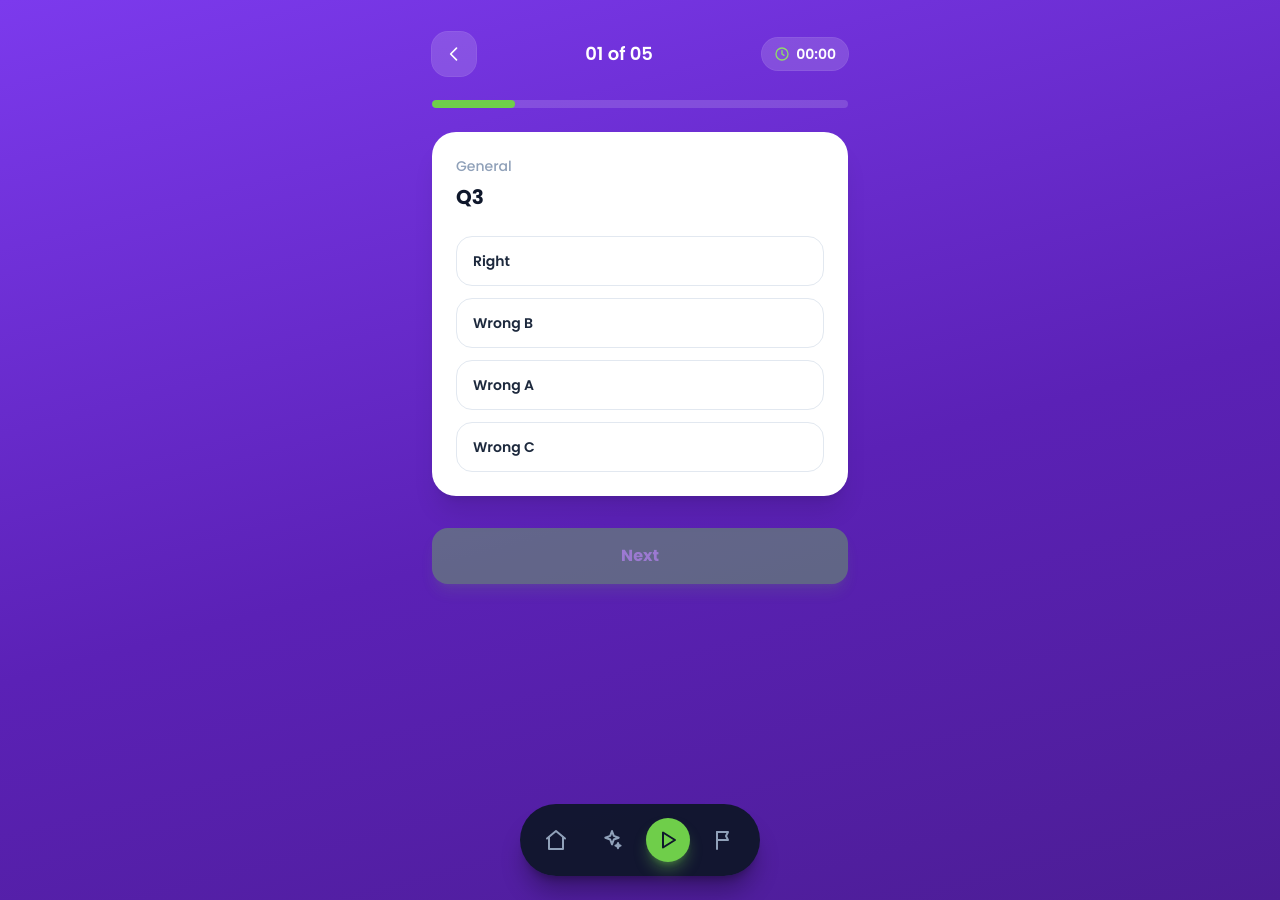
Test: Play page › reveals the correct answer and locks after choosing
Check: the button "Next" is disabled, box [432,528,848,584]
What coordinates should you click on to do the following:
click the button "Wrong A"
I would click on:
 (504, 384)
Its box is [456,360,824,410].
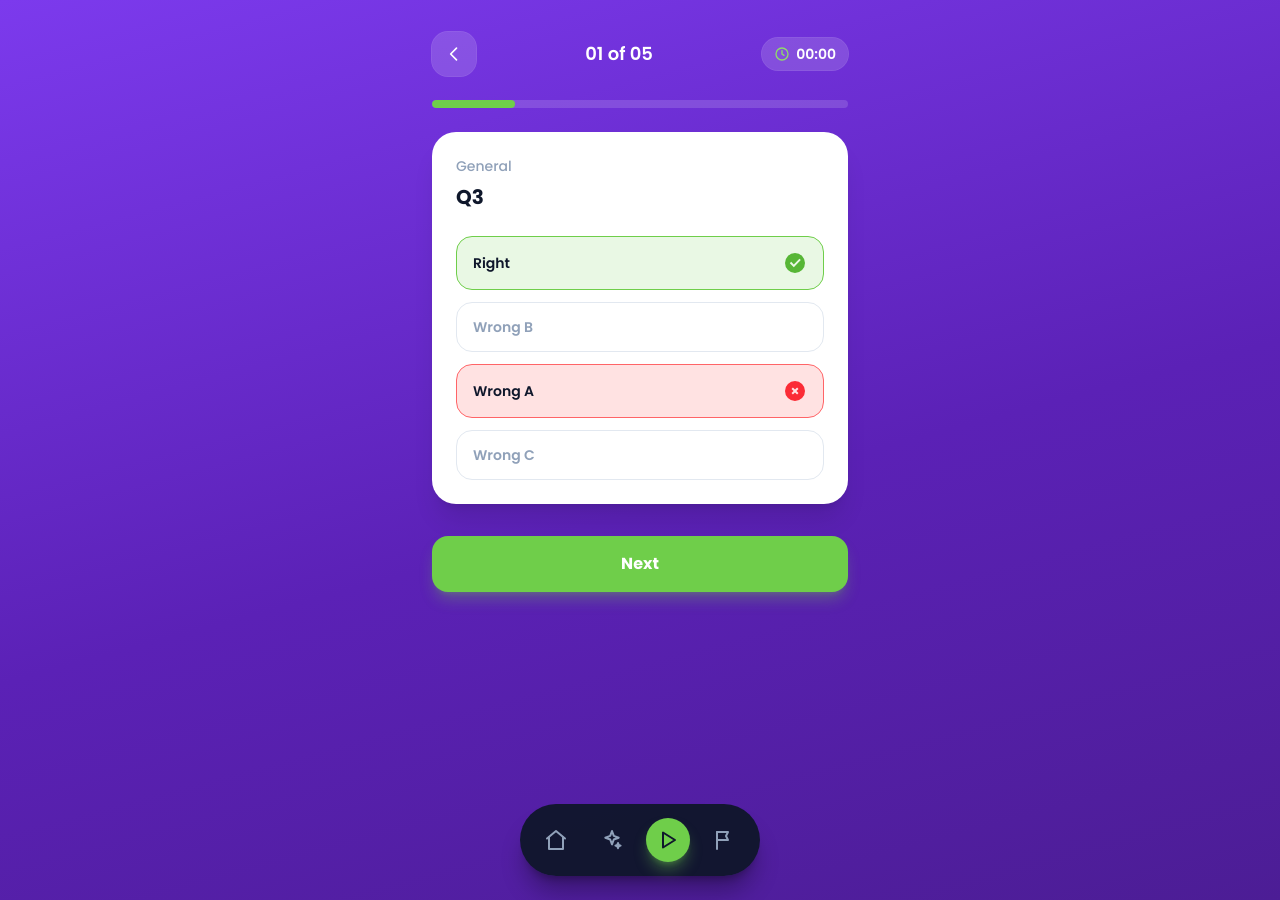
Check: the button "Next" is enabled, box [432,536,848,592]
Check: the button "Wrong B" is disabled, box [456,302,824,352]
